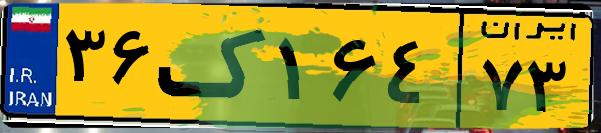1: (270, 28, 330, 110)
3: (57, 26, 110, 100), (525, 38, 570, 115)
4: (385, 28, 445, 110)
6: (330, 28, 385, 110), (110, 28, 158, 98)
7: (475, 38, 525, 113)
ک: (158, 12, 270, 120)
